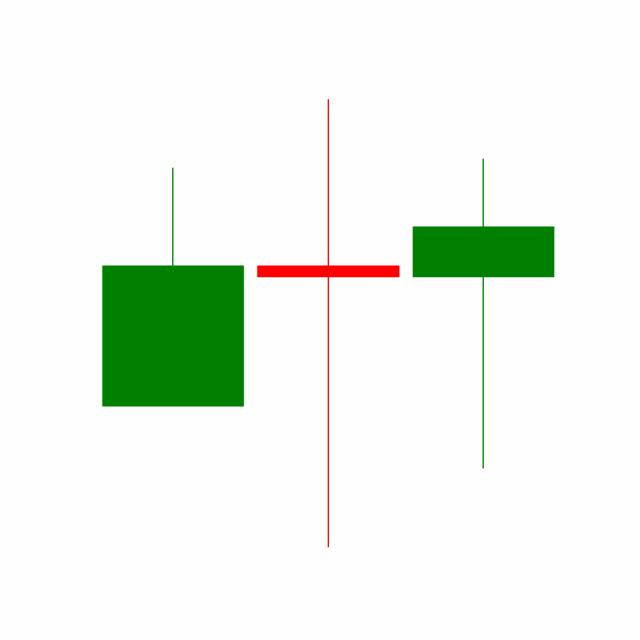Spinning Top: (249, 94, 406, 552)
